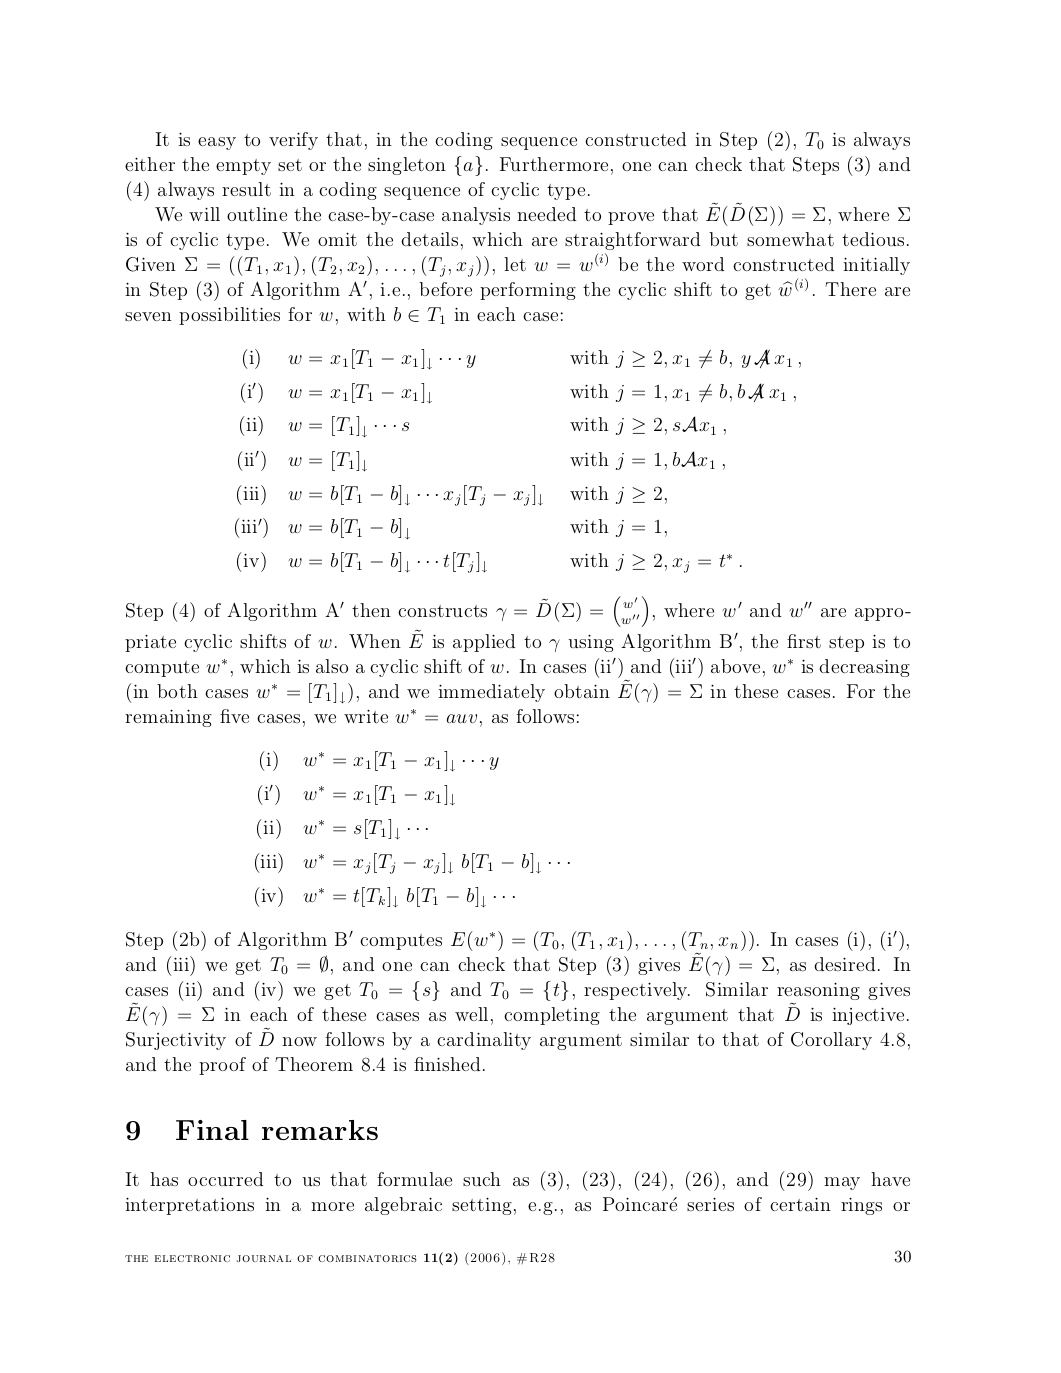formula: (241, 381, 795, 405), (243, 348, 800, 370), (240, 415, 726, 438), (239, 449, 724, 473), (237, 551, 741, 573), (235, 517, 666, 541), (237, 484, 666, 506), (255, 853, 570, 874), (255, 885, 514, 908), (260, 750, 498, 772), (257, 783, 454, 806), (257, 818, 427, 840)
